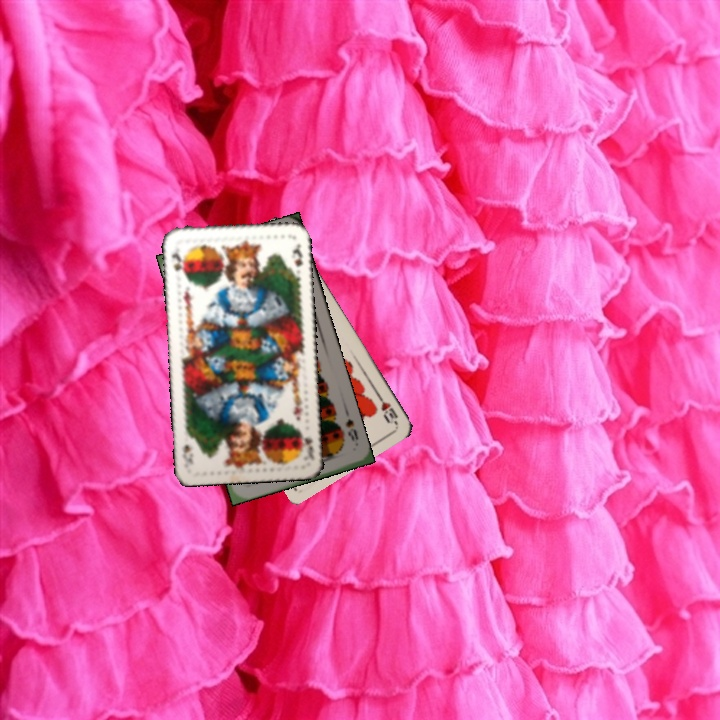H10: (373, 390, 401, 427)
S8: (341, 415, 361, 444)
SK: (297, 425, 317, 460), (168, 243, 187, 279)
